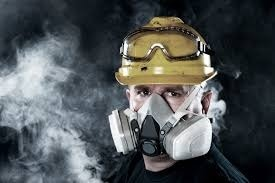helmet: (112, 15, 221, 89)
